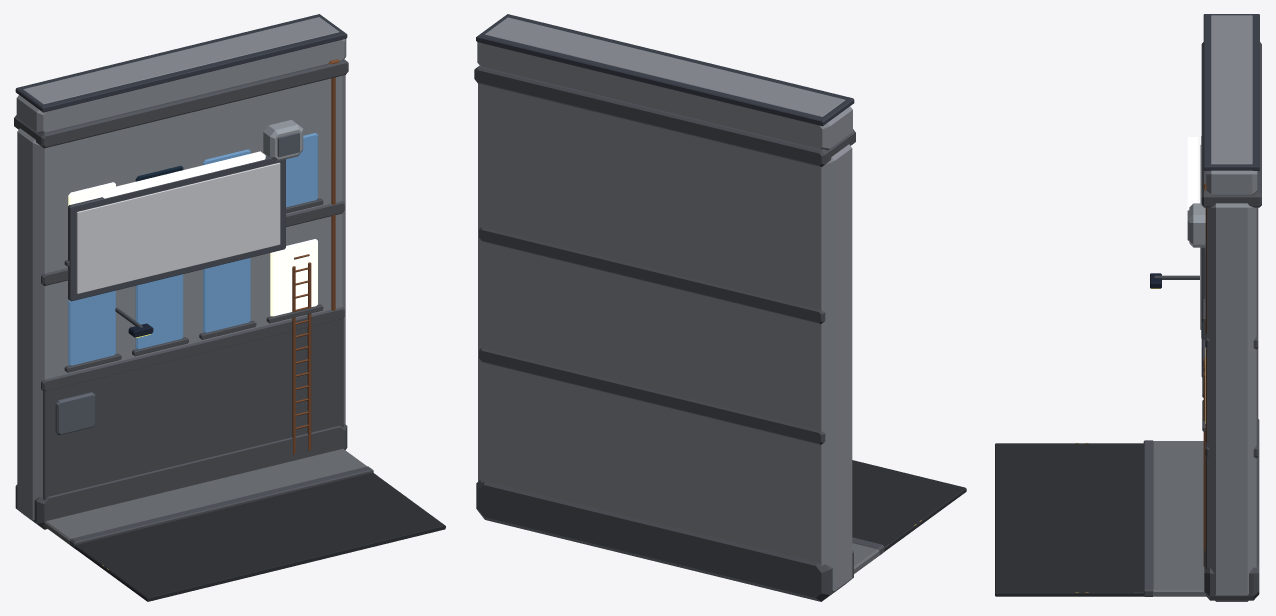
The model's file is spire_wall_boundary_v2.glb.
3 views of the same model, side by side, from view 1: azimuth 30°, elevation 25°; view 2: azimuth 150°, elevation 25°; view 3: azimuth 270°, elevation 25° (orthographic). The views are drawn at different scales.
Parts seen in each view (by area): view 1: block_body, gable_face, street_asphalt, gable_board, block_parapet, block_plinth, street_pavement, block_cornice, gable_board_frame, block_coping, block_band0, block_win0_0 (+12 smaller); view 2: block_body, block_parapet, block_plinth, block_cornice, street_asphalt, block_coping, block_band0, block_band1; view 3: street_asphalt, block_body, street_pavement, block_parapet, block_coping, street_kerb, block_cornice, block_plinth, gable_board_lamp, block_ac, gable_stringer1, block_band1 (+4 smaller).
Boxes of the visible parts, x1,y1,x2,y2 form: block_body: (17,75,345,520); gable_face: (43,318,343,526); street_asphalt: (74,472,445,601); gable_board: (76,162,280,293); block_parapet: (16,17,346,133); block_plinth: (15,423,347,529); street_pavement: (44,449,367,544); block_cornice: (14,59,348,148); gable_board_frame: (68,156,285,301); block_coping: (15,14,347,112); block_band0: (41,307,344,390); block_win0_0: (68,290,115,365); block_body: (478,83,852,591); block_parapet: (477,17,852,150); block_plinth: (476,480,853,601); block_cornice: (474,65,855,166); street_asphalt: (852,460,966,551); block_coping: (476,14,854,126); block_band0: (479,348,825,444); block_band1: (479,227,825,323); street_asphalt: (995,443,1144,596); block_body: (1207,203,1256,601); street_pavement: (1153,441,1206,596); block_parapet: (1206,15,1257,195); block_coping: (1203,14,1259,170); street_kerb: (1143,440,1153,596); block_cornice: (1201,42,1261,207); block_plinth: (1204,419,1259,600); gable_board_lamp: (1187,137,1198,210); block_ac: (1189,203,1205,247); gable_stringer1: (1203,373,1205,566); block_band1: (1205,207,1258,349).
Size of the model in its own units: 10.5 by 13.75 by 7.55.
